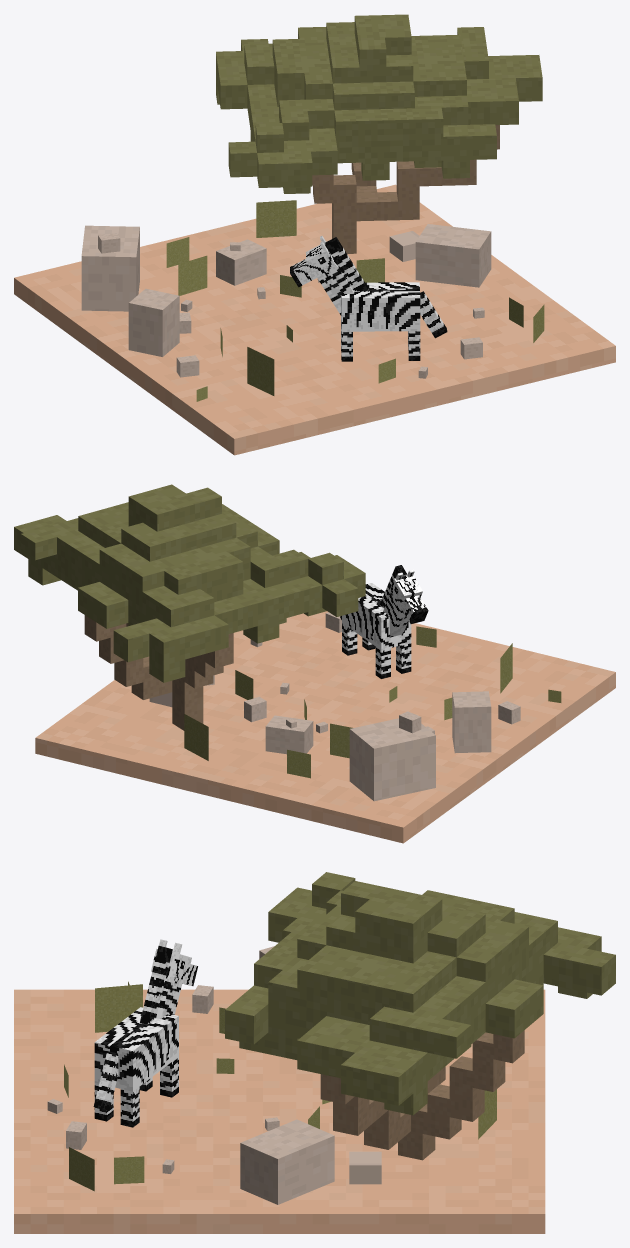
The model's file is stylized_savannah.glb.
The picture shows the model from 3 angles, top to bottom: view 1: azimuth 30°, elevation 25°; view 2: azimuth 150°, elevation 25°; view 3: azimuth 270°, elevation 25°; orthographic projection. The views are drawn at different scales.
Parts seen in each view (by area): view 1: Ground, TreeLeaves, Zebra, TreeBark, Rock001, Rock013, Rock002, Rock003, Grass007, Grass008, Grass005, Rock011 (+2 smaller); view 2: Ground, TreeLeaves, Rock001, Zebra, TreeBark, Rock002, Rock003, Grass007, Grass005, Grass006, Rock004; view 3: Ground, TreeLeaves, TreeBark, Zebra, Rock013, Grass008, Rock011, Grass002, Grass003, Grass007, Rock005, Rock010.
Boxes of the visible parts, x1=… form: Ground: x1=14, y1=184, x2=615, y2=455; TreeLeaves: x1=216, y1=14, x2=542, y2=193; Zebra: x1=290, y1=236, x2=447, y2=361; TreeBark: x1=312, y1=125, x2=499, y2=253; Rock001: x1=81, y1=225, x2=139, y2=311; Rock013: x1=415, y1=224, x2=491, y2=287; Rock002: x1=128, y1=288, x2=179, y2=356; Rock003: x1=216, y1=239, x2=266, y2=285; Grass007: x1=256, y1=200, x2=296, y2=237; Grass008: x1=247, y1=347, x2=274, y2=395; Grass005: x1=178, y1=255, x2=207, y2=295; Rock011: x1=389, y1=231, x2=419, y2=261; Ground: x1=35, y1=611, x2=615, y2=843; TreeLeaves: x1=14, y1=484, x2=365, y2=682; Rock001: x1=349, y1=718, x2=435, y2=801; Zebra: x1=340, y1=565, x2=428, y2=678; TreeBark: x1=84, y1=615, x2=233, y2=730; Rock002: x1=452, y1=691, x2=491, y2=753; Rock003: x1=265, y1=715, x2=313, y2=754; Grass007: x1=184, y1=714, x2=208, y2=760; Grass005: x1=330, y1=723, x2=352, y2=758; Grass006: x1=287, y1=749, x2=310, y2=778; Rock004: x1=244, y1=696, x2=266, y2=722; Ground: x1=14, y1=989, x2=545, y2=1233; TreeLeaves: x1=225, y1=872, x2=615, y2=1115; TreeBark: x1=320, y1=1030, x2=524, y2=1160; Zebra: x1=93, y1=939, x2=197, y2=1127; Rock013: x1=240, y1=1119, x2=334, y2=1204; Grass008: x1=95, y1=984, x2=142, y2=1032; Rock011: x1=349, y1=1151, x2=381, y2=1184; Grass002: x1=69, y1=1147, x2=94, y2=1191; Grass003: x1=114, y1=1156, x2=144, y2=1184; Grass007: x1=478, y1=1089, x2=496, y2=1139; Rock005: x1=192, y1=985, x2=213, y2=1013; Rock010: x1=66, y1=1121, x2=86, y2=1149.
Size of the model in its own units: 3.54 by 1.73 by 3.3.
6 materials, 6 textured.
